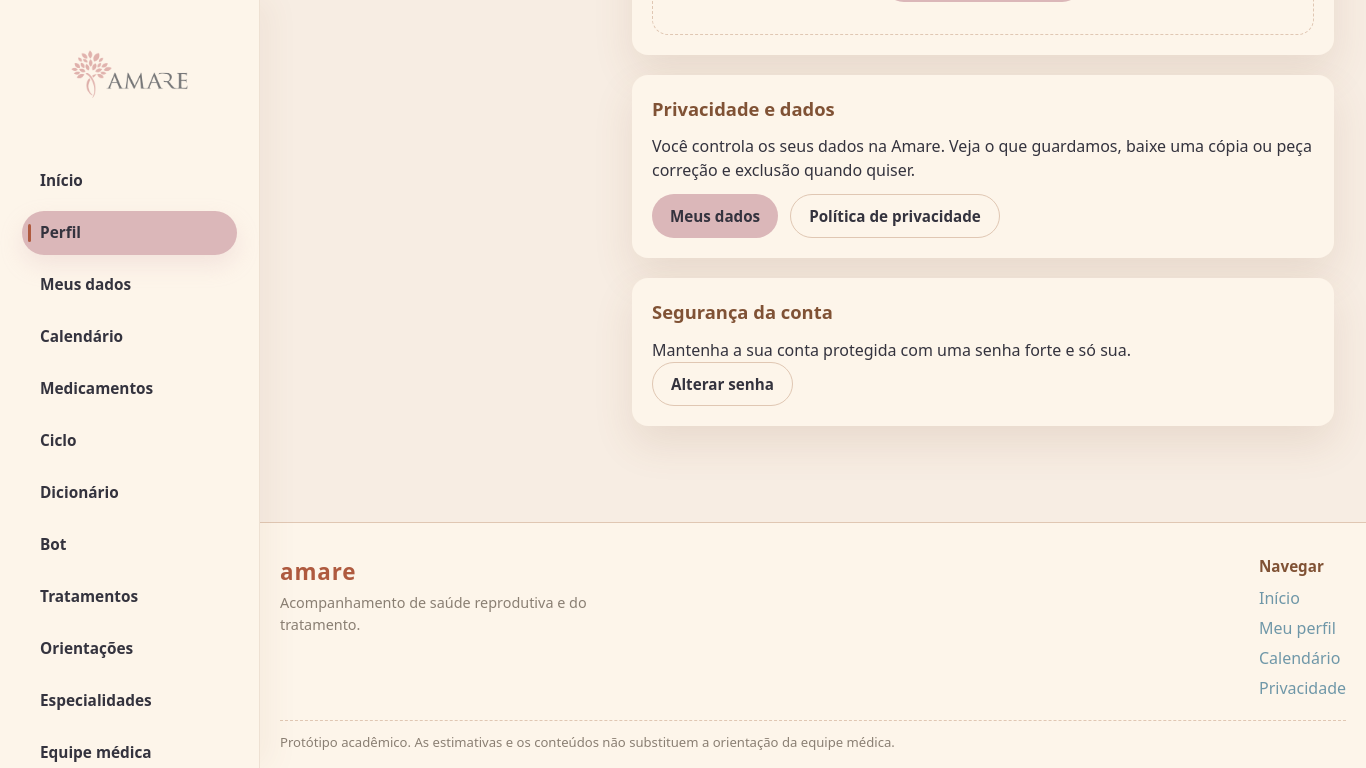
Scenario: Segurança da conta — alterar senha › valida no cliente quando a confirmacao nao confere
(page scrolled)
Click the button with test id "perfil-alterar-senha-abrir" at (723, 384), box 652,362 -> 793,406
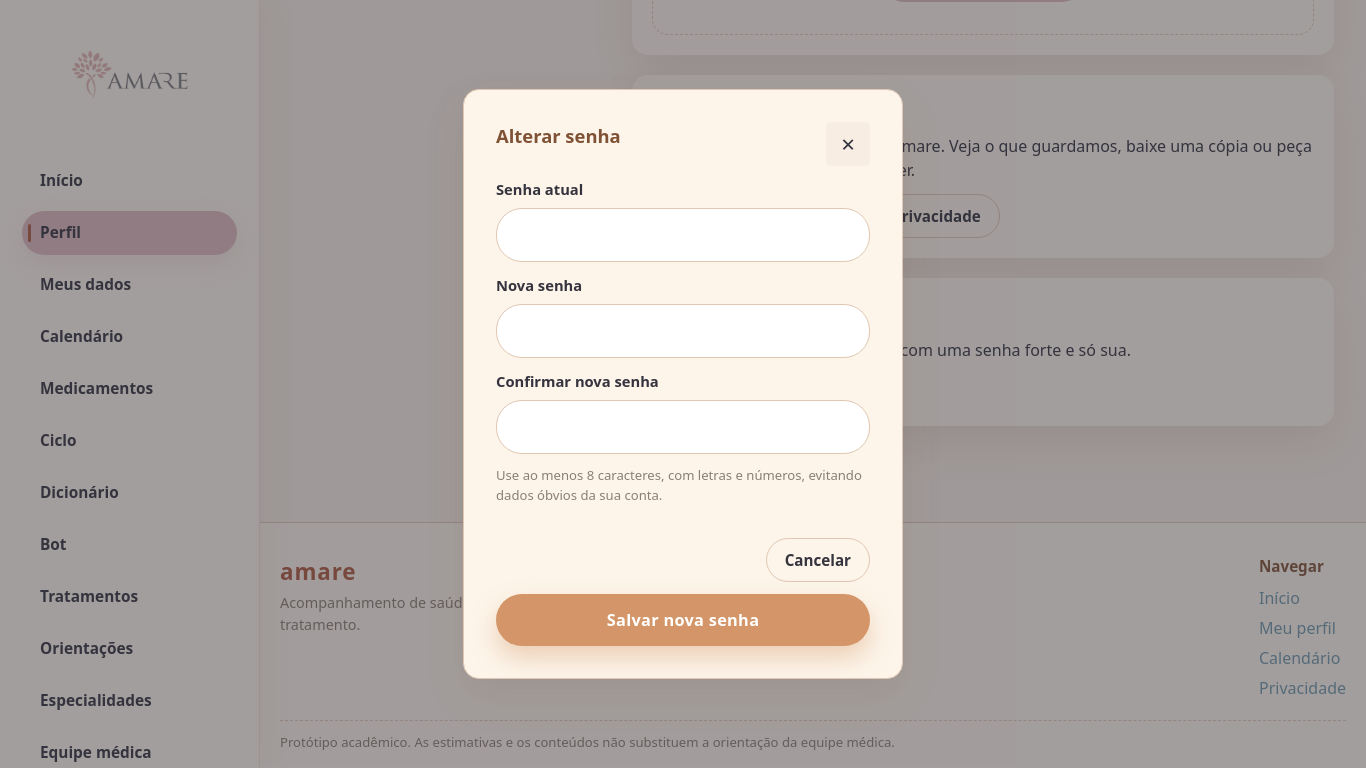
Type "PrimeiraChave2026" into the password field with test id "alterar-senha-atual" at (683, 235), box 517,209 -> 849,261
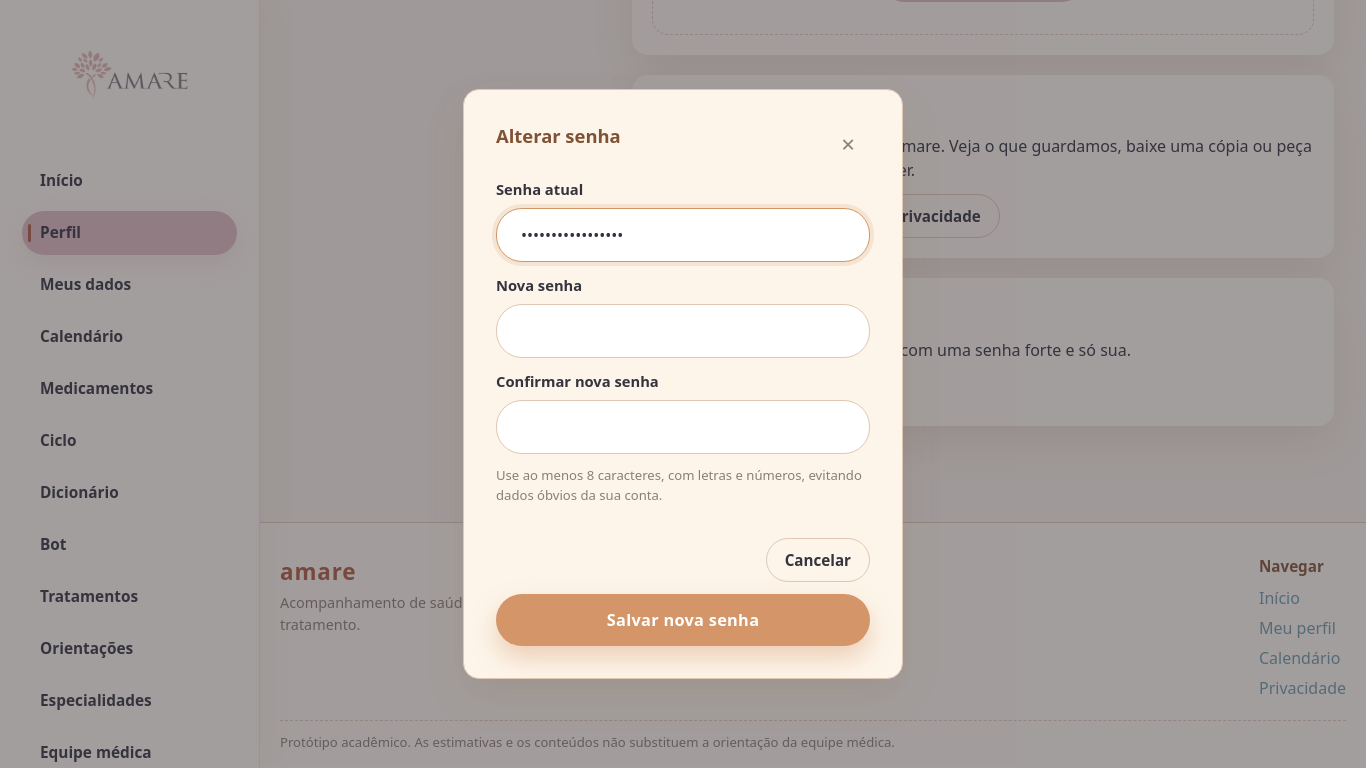
Type "OutraChave2027!" into the password field with test id "alterar-senha-nova" at (683, 331), box 517,305 -> 849,357
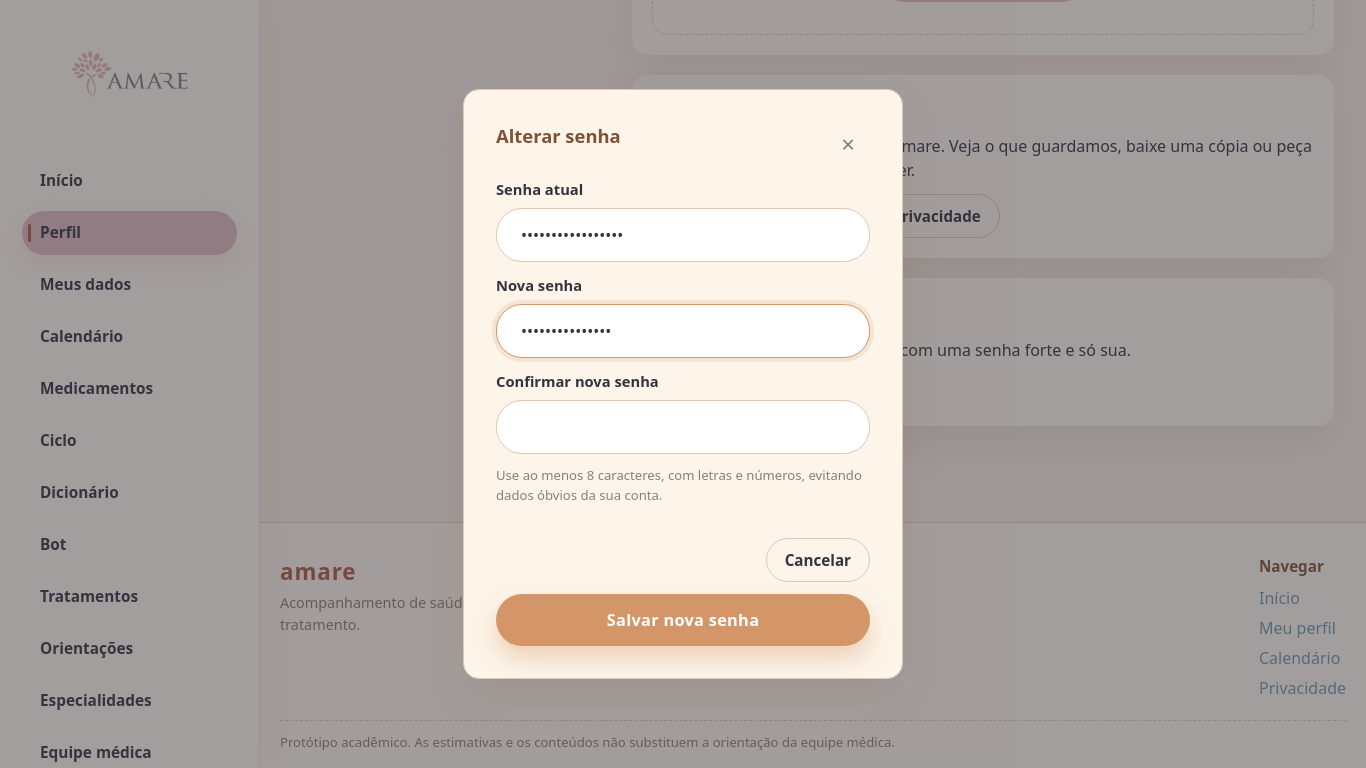
Type "Diferente2027!" into the password field with test id "alterar-senha-confirmar" at (683, 427), box 517,401 -> 849,453
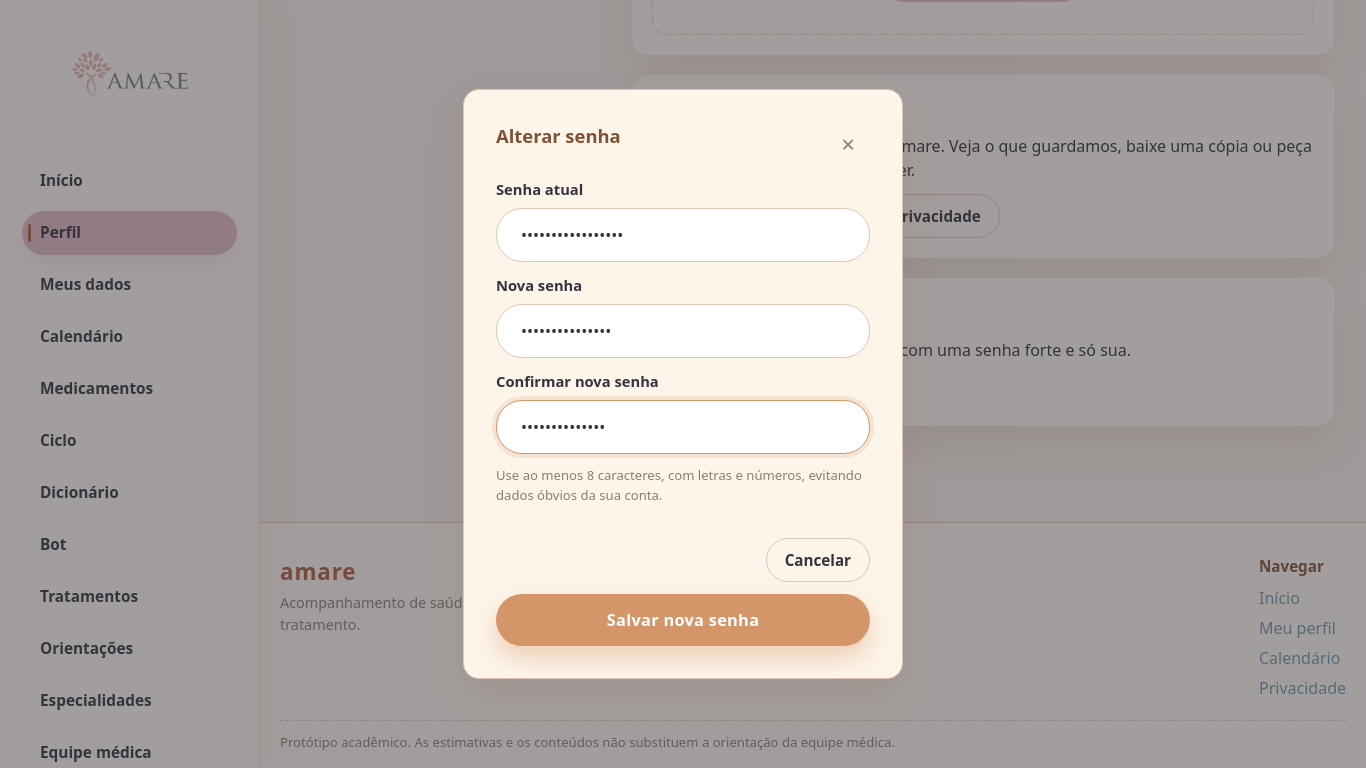
Click the button with test id "alterar-senha-salvar" at (683, 620), box 496,594 -> 870,646
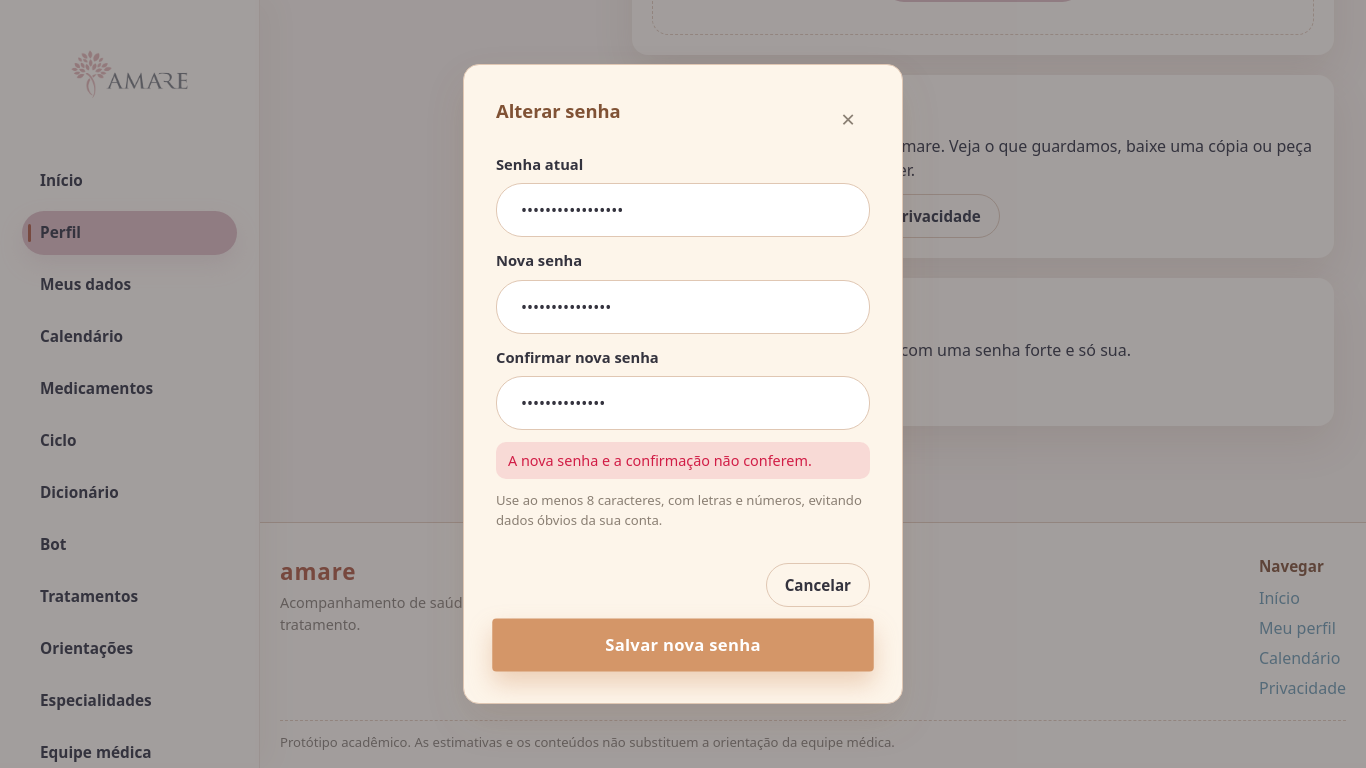
Expected: the message "A nova senha e a confirmação não conferem." is shown, 496,442 -> 870,479
Expected: the message with test id "alterar-senha-erro" shows "não conferem", 508,451 -> 812,470
